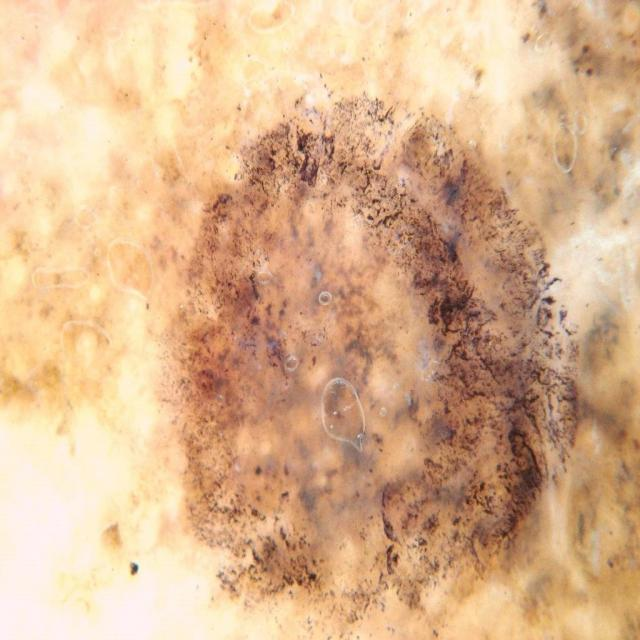Skin-Cancer Melanoma: (100, 43, 621, 640)
